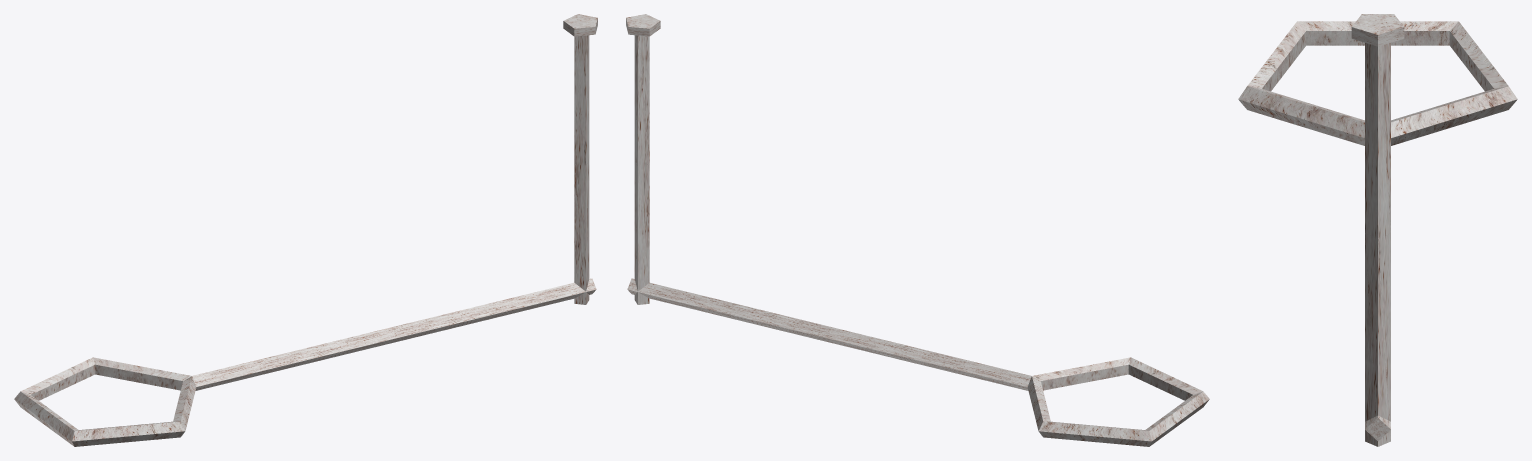
The model's file is Orrery_Arm.glb.
The picture shows the model from 3 angles, left to right: view 1: azimuth 30°, elevation 25°; view 2: azimuth 150°, elevation 25°; view 3: azimuth 270°, elevation 25°; orthographic projection. The views are drawn at different scales.
Parts seen in each view (by area): view 1: Orrery_Arm; view 2: Orrery_Arm; view 3: Orrery_Arm.
Boxes of the visible parts, x1=… form: Orrery_Arm: x1=14, y1=14, x2=597, y2=446; Orrery_Arm: x1=626, y1=14, x2=1209, y2=446; Orrery_Arm: x1=1238, y1=14, x2=1517, y2=446.
Bounding box in the file's own units: 10.39 × 5.02 × 3.04.
1 material, 1 textured.
